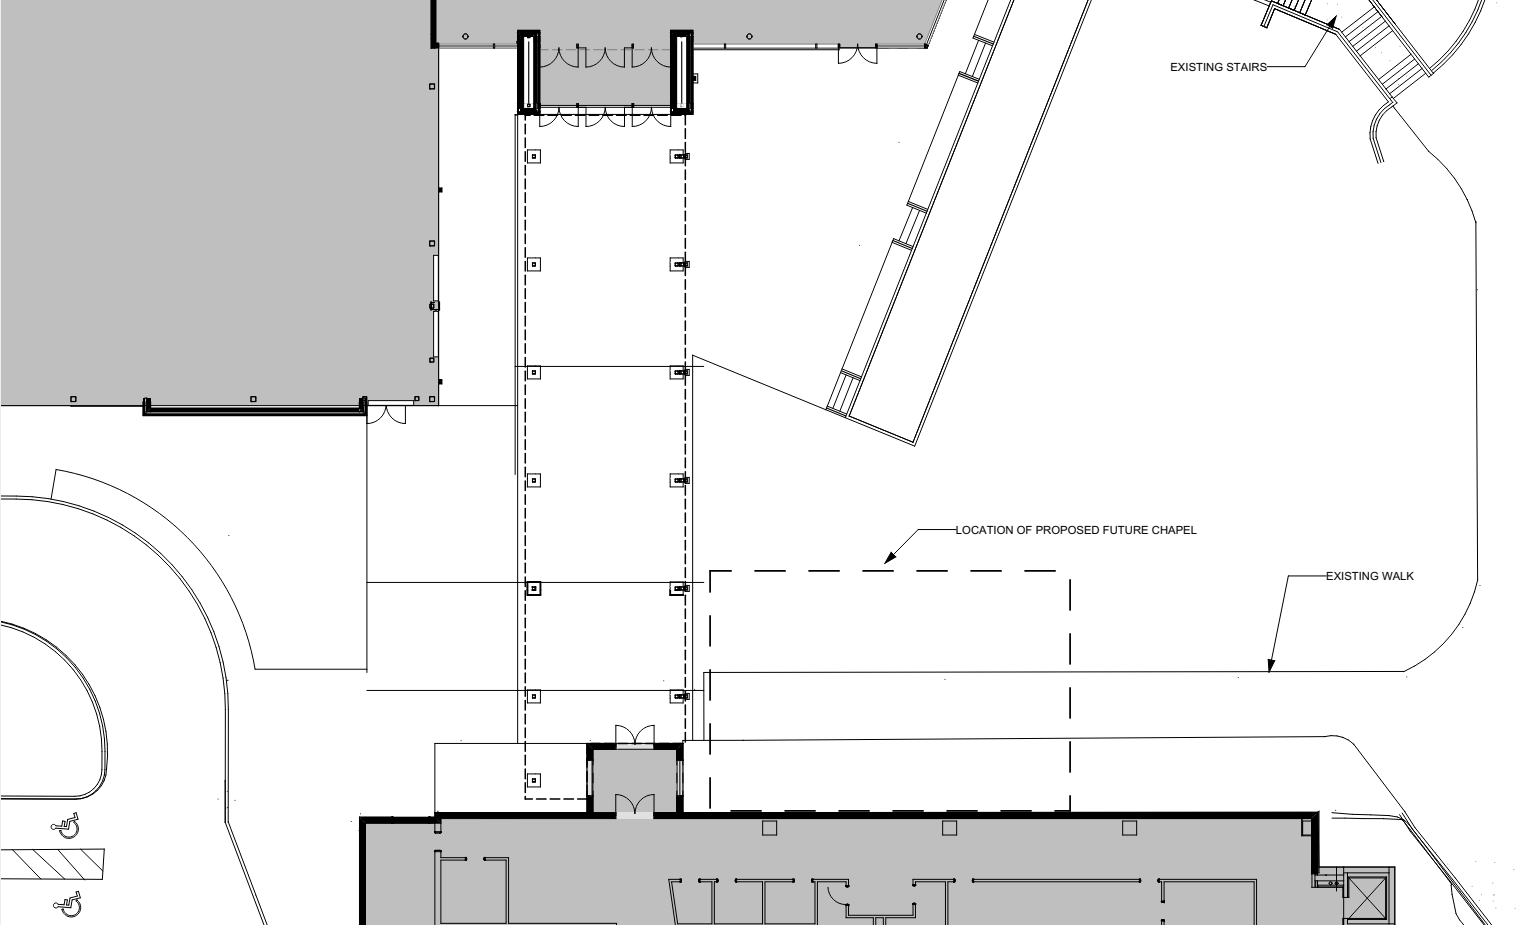double door: (612, 789, 660, 825), (364, 395, 410, 430), (582, 41, 627, 75), (613, 721, 659, 753), (630, 41, 675, 71), (835, 40, 884, 68), (539, 43, 581, 74)
window: (824, 364, 866, 424), (884, 199, 931, 251), (956, 32, 998, 84)
